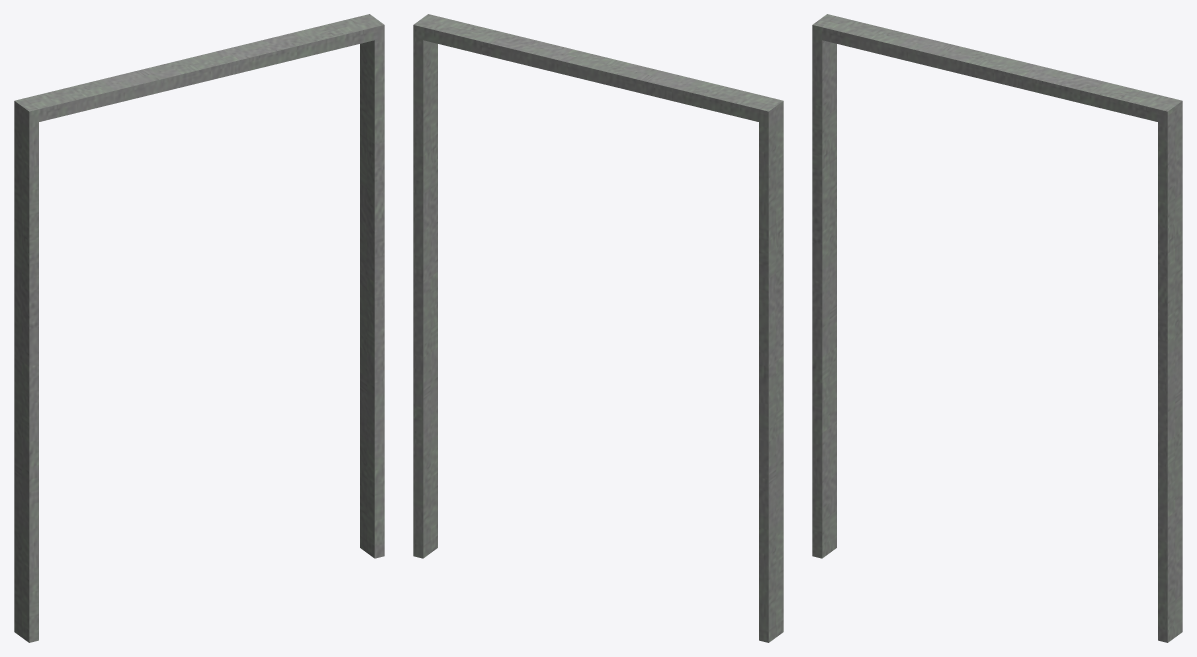
3 renders of one model, left to right at view 1: azimuth 30°, elevation 25°; view 2: azimuth 150°, elevation 25°; view 3: azimuth 330°, elevation 25°, orthographic.
Visible parts, largest first — view 1: entradaB:Mesh32Door_Glass_Sliding_6_0_1Model; view 2: entradaB:Mesh32Door_Glass_Sliding_6_0_1Model; view 3: entradaB:Mesh32Door_Glass_Sliding_6_0_1Model.
Part boxes in pixels (bbox=[...]): entradaB:Mesh32Door_Glass_Sliding_6_0_1Model: bbox=[14, 14, 384, 642]; entradaB:Mesh32Door_Glass_Sliding_6_0_1Model: bbox=[413, 14, 783, 642]; entradaB:Mesh32Door_Glass_Sliding_6_0_1Model: bbox=[812, 14, 1182, 642].
Bounding box in the file's own units: 1.4 × 2 × 0.1016.
1 material, 1 textured.
